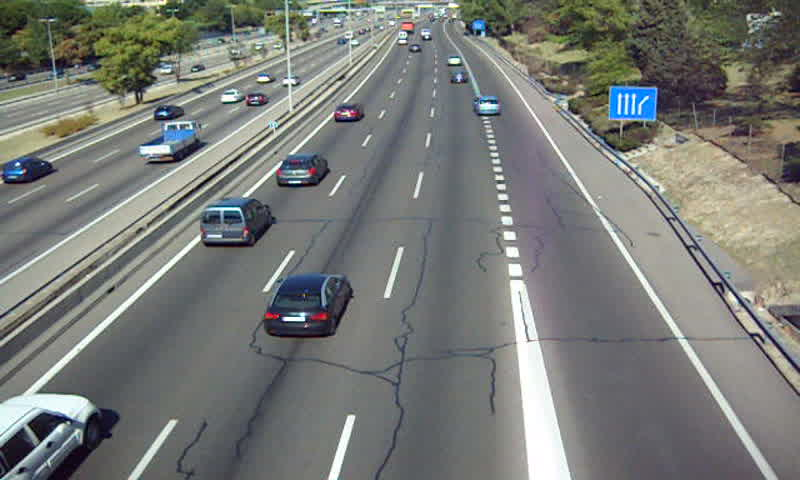car: (263, 273, 351, 336), (274, 155, 328, 188), (334, 103, 363, 124), (472, 95, 501, 115), (448, 70, 468, 84), (446, 54, 465, 66)
van: (201, 196, 270, 247)
